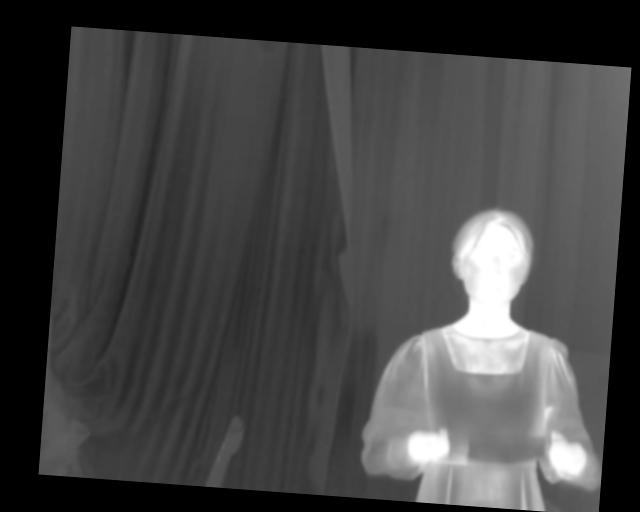face: (446, 204, 537, 309)
